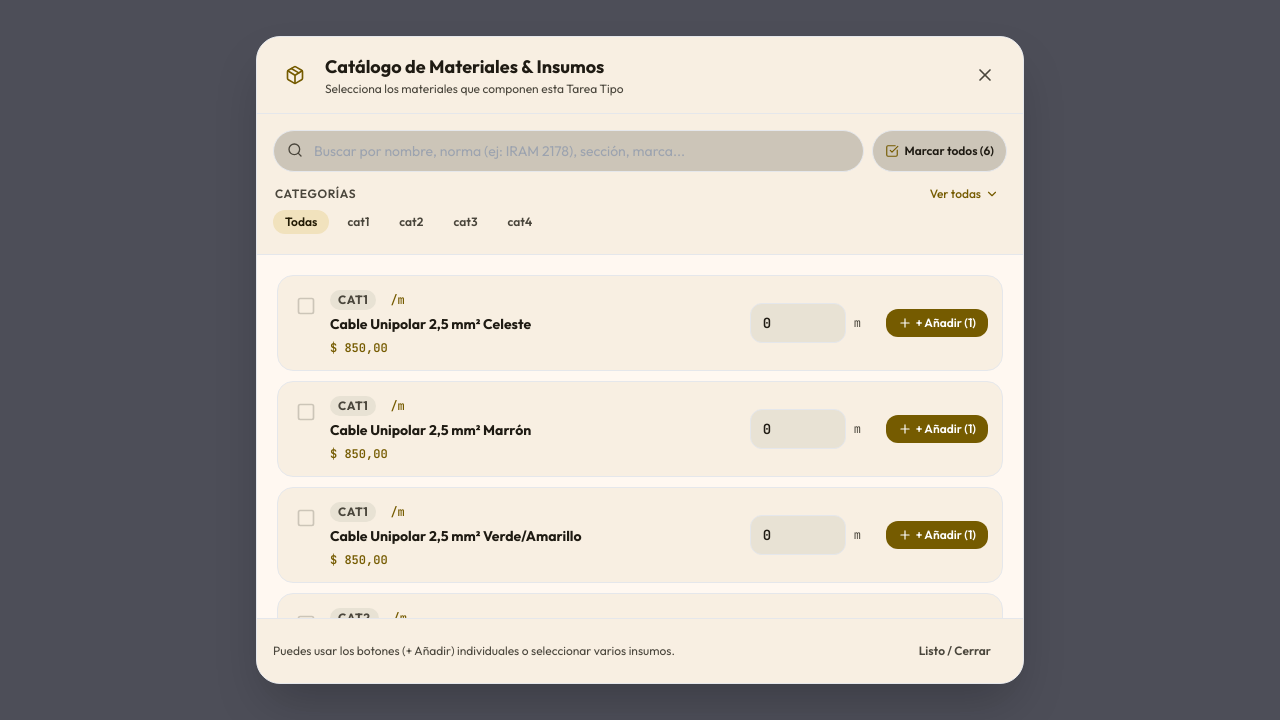
Test: MaterialPickerModal - Selección por Lote con Cantidad Compartida › permite alternar entre colapsar y expandir cuando hay más de 3 categorías
// Clic para expandir
Click the button "Ver todas". click: click(964, 194)
box: [924, 184, 1005, 204]
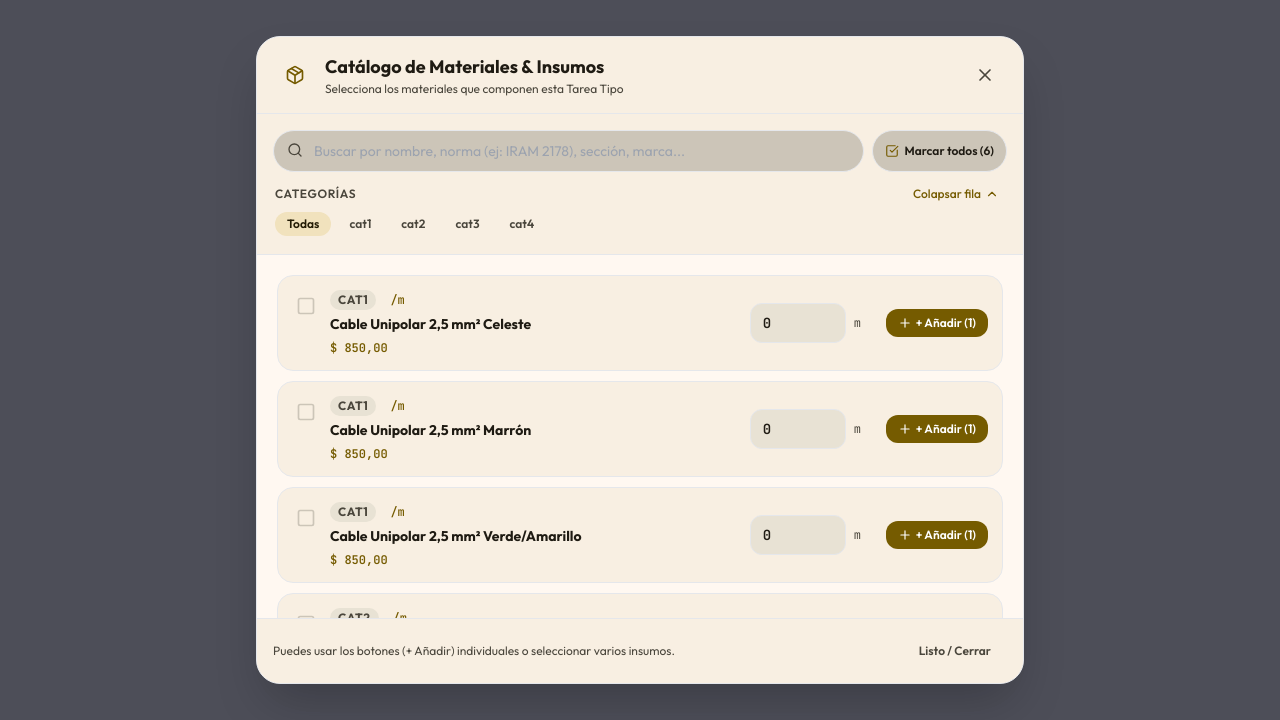
Expected: the button "Colapsar fila" is shown
// Clic para colapsar
Click the button "Colapsar fila". click: click(956, 194)
box: [907, 184, 1005, 204]
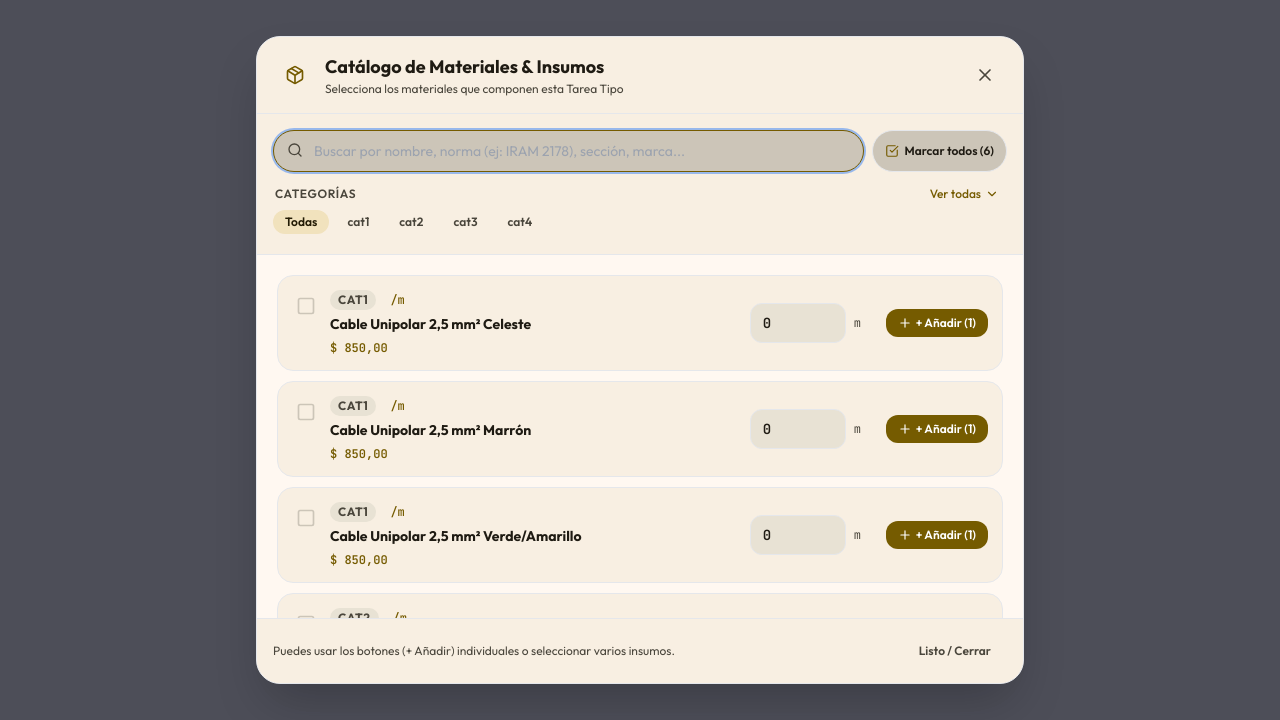
Expected: the button "Ver todas" is shown, [924, 184, 1005, 204]
